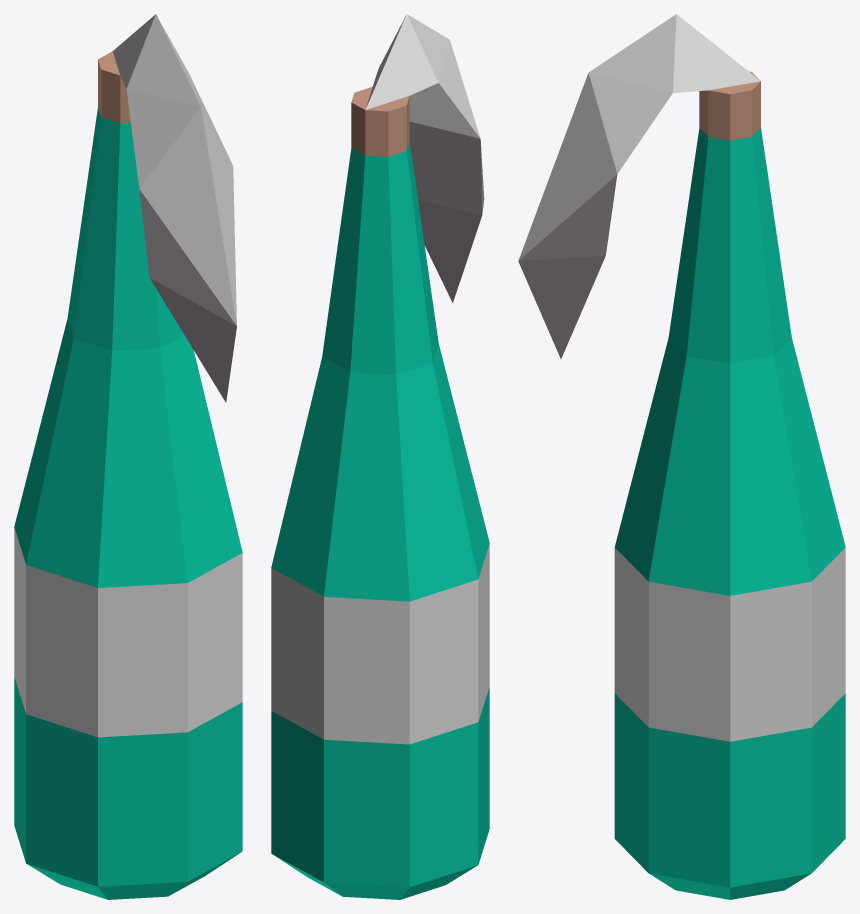
The model's file is Molotow.fbx.
The picture shows the model from 3 angles, left to right: view 1: azimuth 30°, elevation 25°; view 2: azimuth 150°, elevation 25°; view 3: azimuth 270°, elevation 25°; orthographic projection. The views are drawn at different scales.
Parts seen in each view (by area): view 1: Molotow; view 2: Molotow; view 3: Molotow.
Part boxes in pixels (left/top/right/bottom): Molotow: left=14, top=14, right=242, bottom=899; Molotow: left=271, top=14, right=489, bottom=899; Molotow: left=518, top=14, right=845, bottom=899.
Bounding box in the file's own units: 0.09 × 0.3669 × 0.1276.
